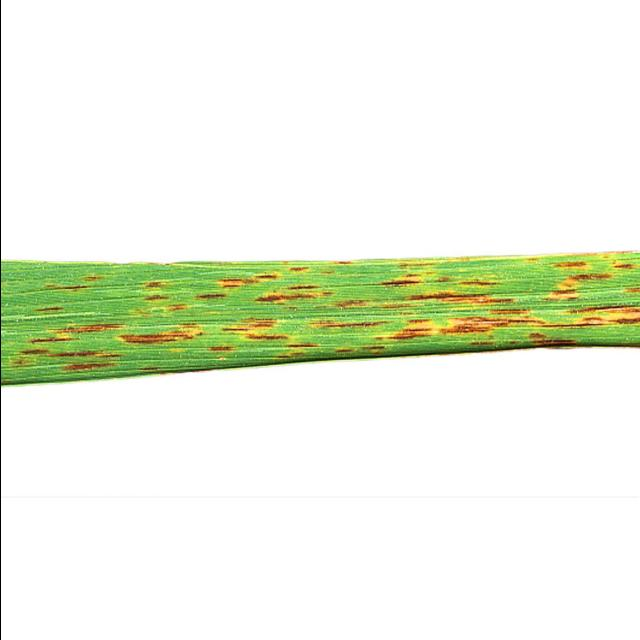Narrow brown: (0, 209, 640, 408)
